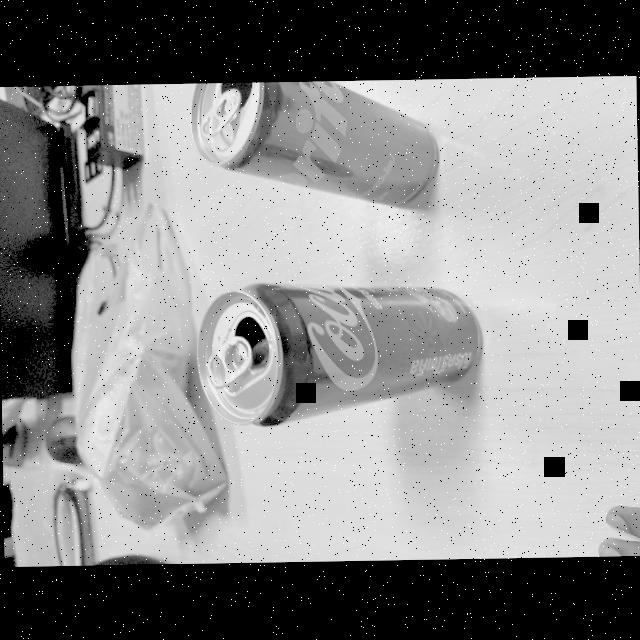can: (187, 256, 490, 437), (183, 78, 447, 230)
